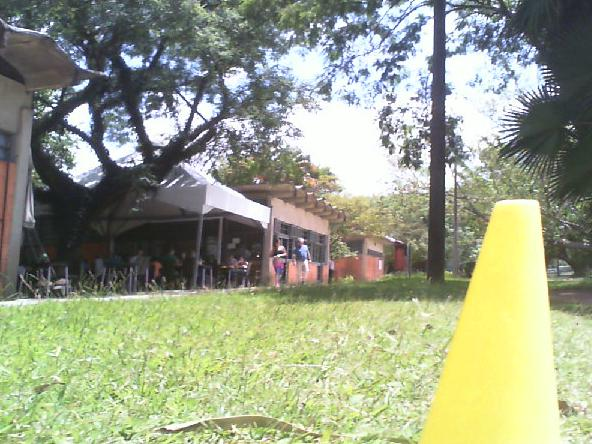0 cone: (414, 200, 564, 444)
